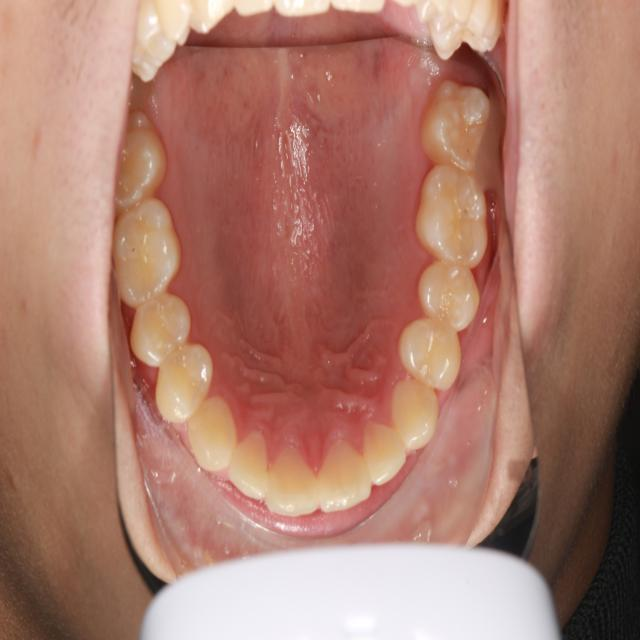tooth: (414, 65, 508, 197), (408, 155, 498, 278), (105, 193, 193, 310), (123, 290, 209, 379), (145, 334, 221, 432), (111, 110, 178, 215), (394, 309, 475, 393), (260, 434, 329, 529), (414, 247, 486, 335), (387, 369, 446, 463), (185, 386, 242, 483), (310, 436, 379, 516), (353, 410, 416, 489), (225, 421, 279, 513)
